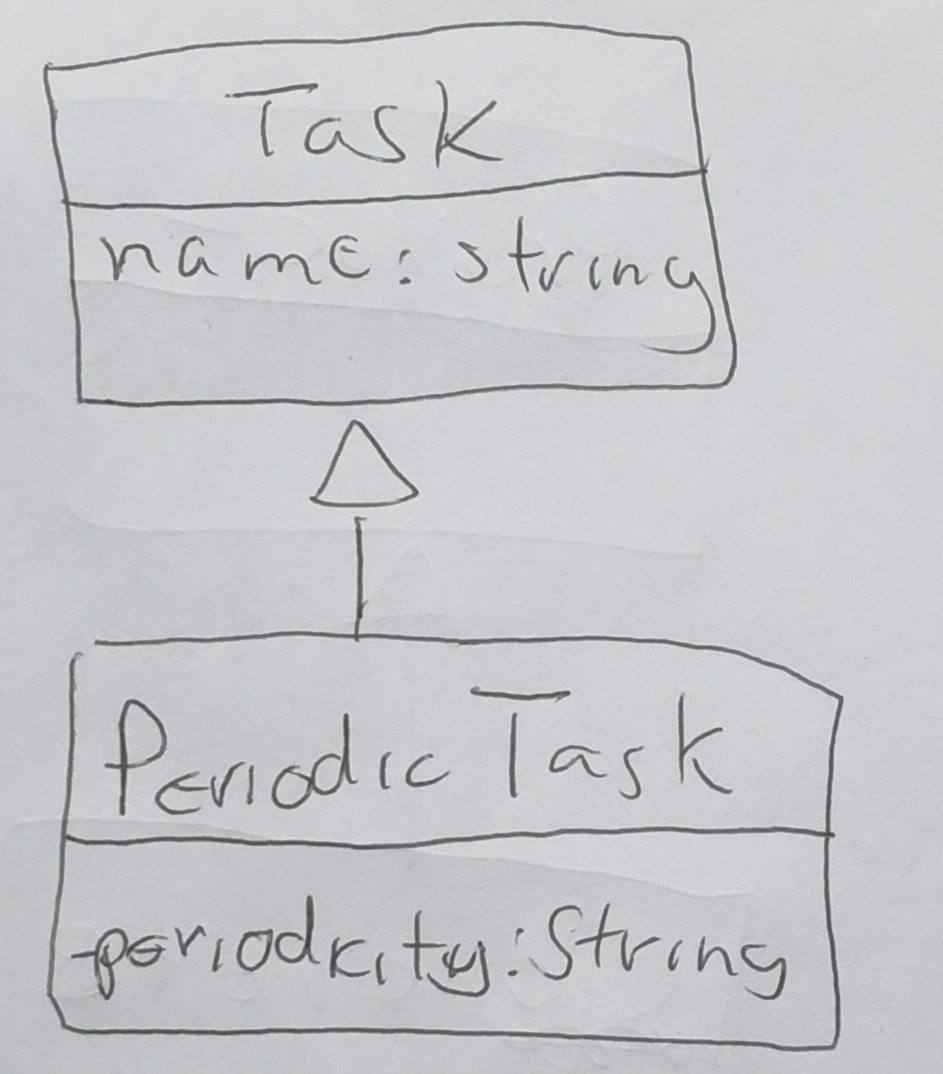class attributes: (45, 623, 853, 1059), (33, 11, 744, 413)
inheritance: (305, 407, 429, 649)
